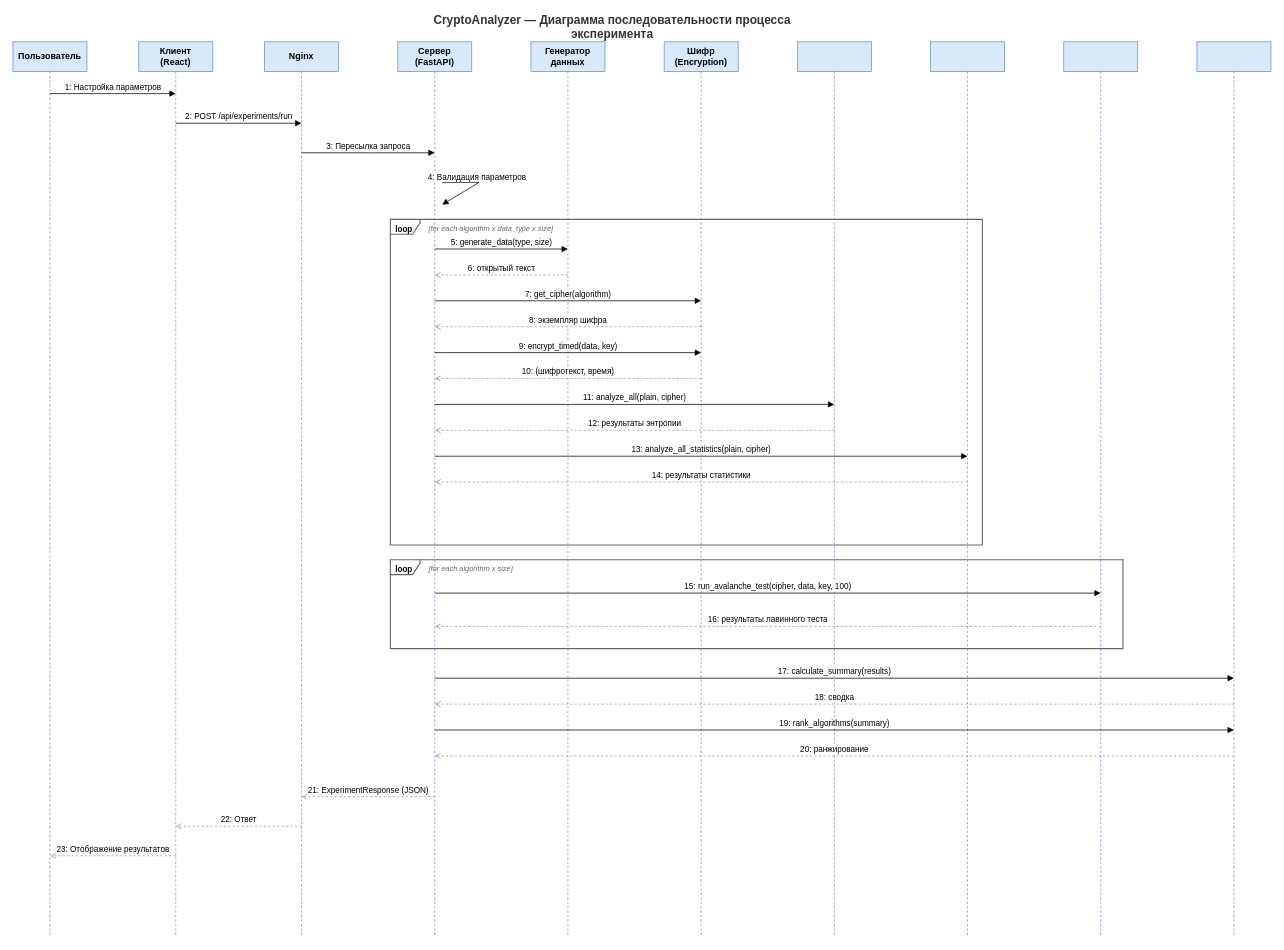
This 1284x950 diagram has some shape labels left out. The shapes that lost their labels are listed below. From the top down, each one's box as (x1, y1, x2, y2) in pixels, then its label:
(797, 41, 871, 937): Анализатор энтропии
(930, 41, 1005, 937): Стат. анализатор
(1063, 41, 1138, 937): Лавинный тест
(1196, 41, 1271, 937): Аналитика
